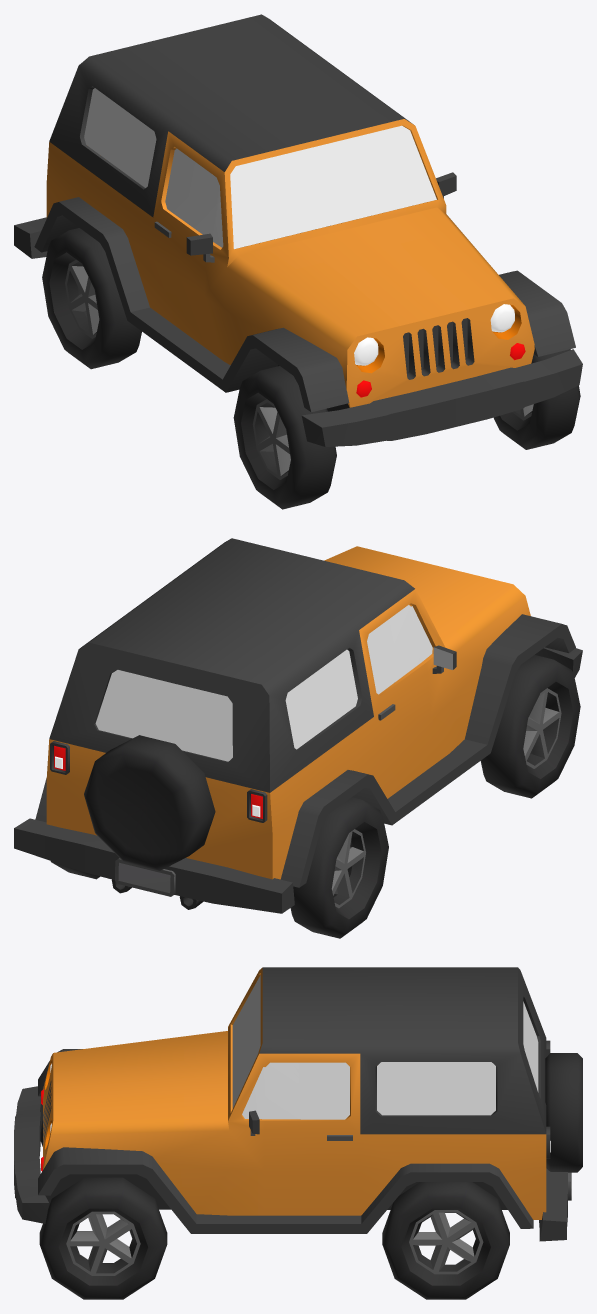
The model's file is jeep.glb.
The picture shows the model from 3 angles, top to bottom: view 1: azimuth 30°, elevation 25°; view 2: azimuth 150°, elevation 25°; view 3: azimuth 270°, elevation 25°; orthographic projection. The views are drawn at different scales.
Parts seen in each view (by area): view 1: jeep, wheels.016; view 2: jeep, wheels.016; view 3: jeep, wheels.016.
Boxes of the visible parts, x1=… form: jeep: x1=14, y1=14, x2=582, y2=446; wheels.016: x1=42, y1=228, x2=580, y2=509; jeep: x1=14, y1=538, x2=582, y2=913; wheels.016: x1=50, y1=655, x2=580, y2=938; jeep: x1=14, y1=967, x2=582, y2=1241; wheels.016: x1=39, y1=1119, x2=509, y2=1299.
Bounding box in the file's own units: 2.28 × 2.04 × 4.45.
3 materials, 2 textured.
